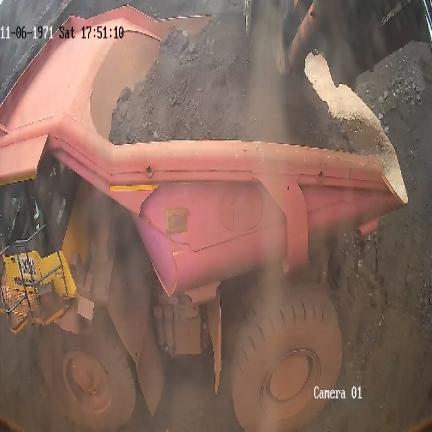pile: (108, 14, 353, 154), (334, 205, 432, 353)
